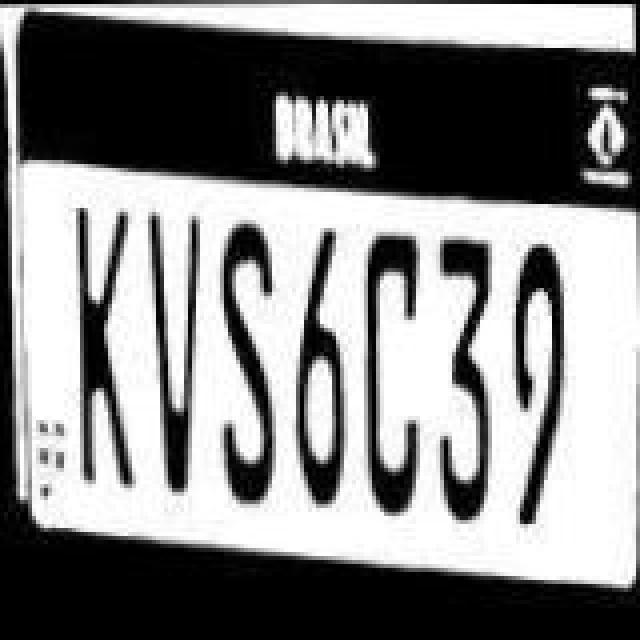3: (430, 228, 498, 524)
6: (274, 216, 350, 524)
9: (500, 238, 576, 546)
C: (358, 218, 426, 518)
K: (64, 202, 144, 510)
S: (210, 224, 286, 528)
V: (144, 216, 208, 528)
